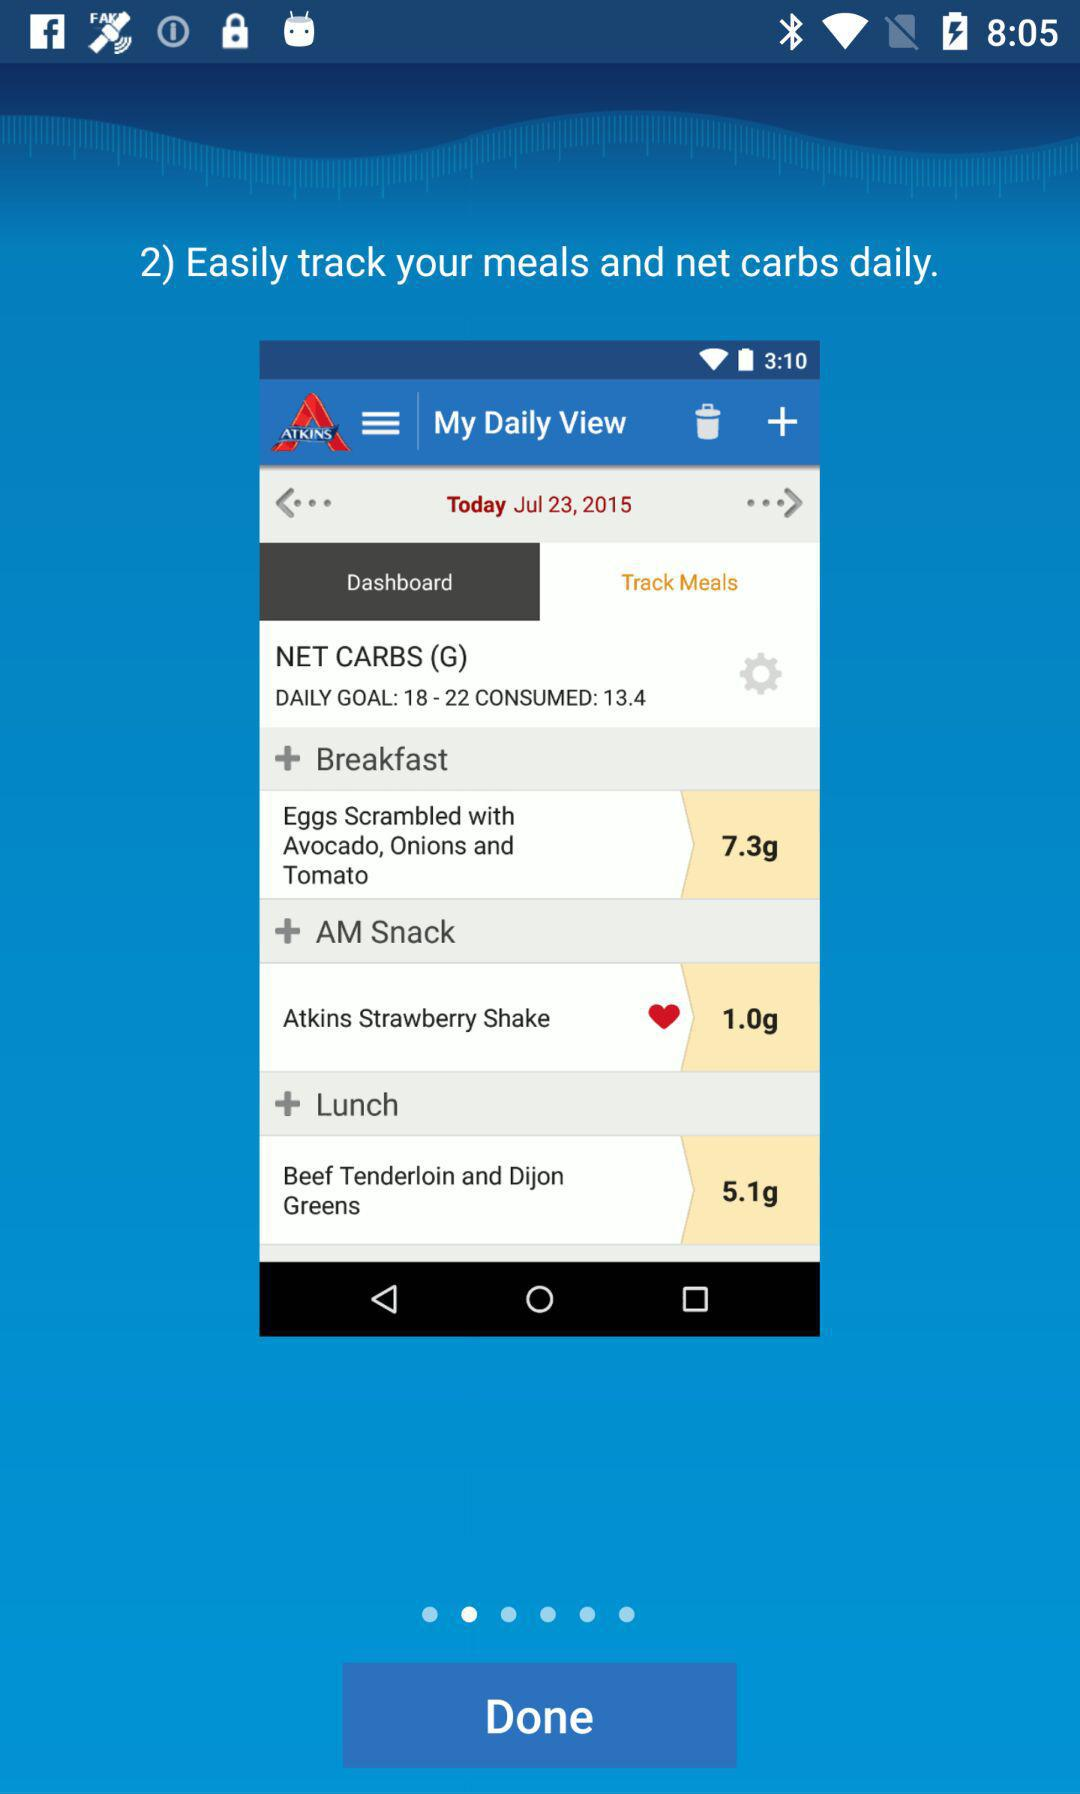Image: (259, 340, 821, 1338)
PageIndicator: (420, 1606, 638, 1624)
Text: (141, 243, 938, 287)
TextButton: (343, 1662, 737, 1768)
UpperTaskBar: (1, 1, 1080, 64)
